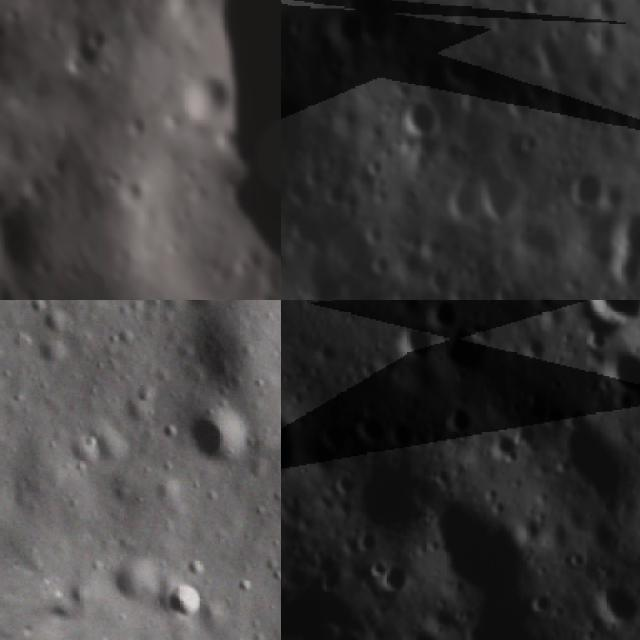crater: (171, 0, 281, 287), (426, 491, 539, 609), (163, 374, 270, 480), (93, 521, 191, 620), (341, 461, 421, 537), (0, 192, 53, 287), (591, 343, 640, 405), (159, 571, 212, 624), (480, 172, 526, 233), (588, 579, 640, 628), (392, 96, 442, 144), (281, 398, 307, 487), (442, 182, 487, 229), (391, 320, 439, 363), (329, 12, 371, 58), (568, 172, 608, 216), (577, 300, 640, 327), (156, 300, 236, 321), (615, 206, 640, 272), (482, 428, 522, 466), (423, 300, 466, 333), (353, 412, 391, 446), (508, 416, 542, 452), (522, 590, 560, 618), (442, 402, 474, 432), (519, 0, 552, 29), (386, 419, 415, 450), (364, 556, 389, 582), (544, 404, 566, 433), (398, 626, 443, 640)
